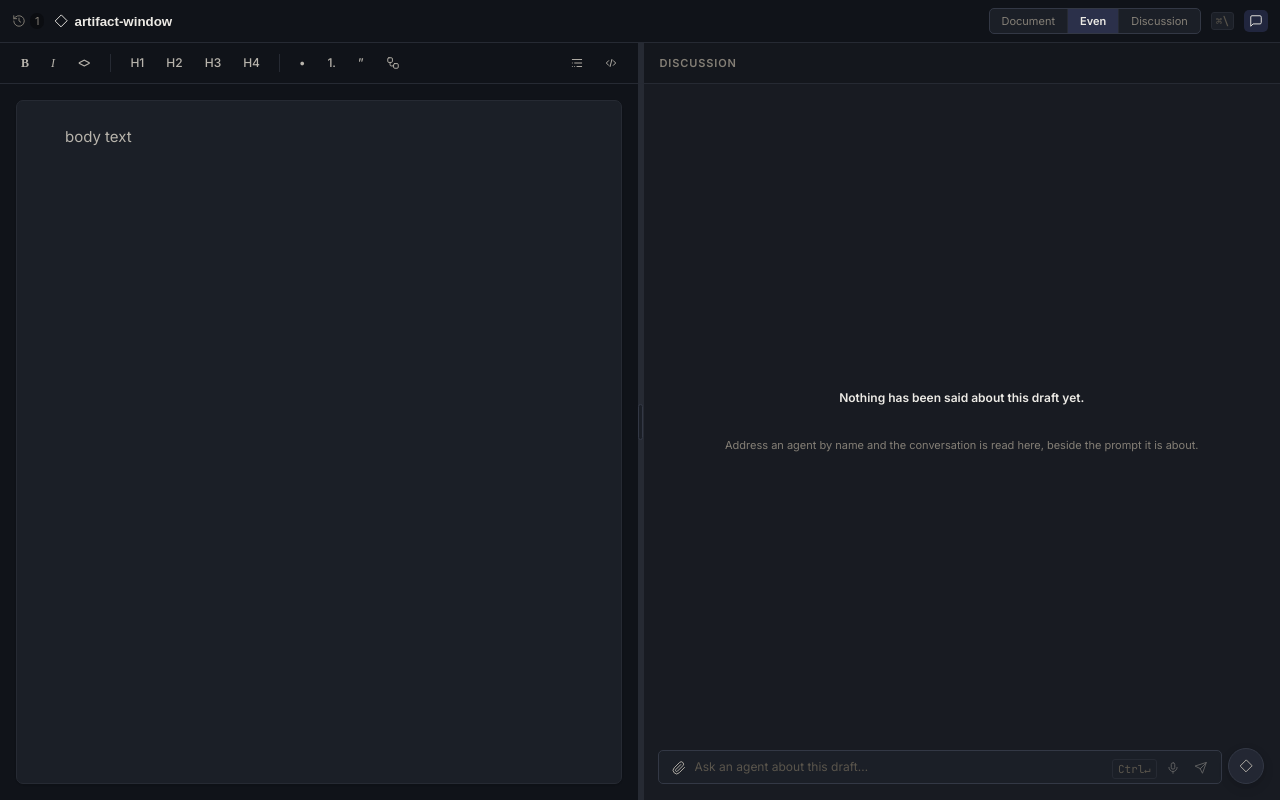
New Artifact workspace — publishing across GitHub hosts › NAW-FR-VBHT: a token of another host refuses the action and states why
Click the button named "Draft actions" at {"x": 1246, "y": 766}, box [1228, 748, 1264, 784]
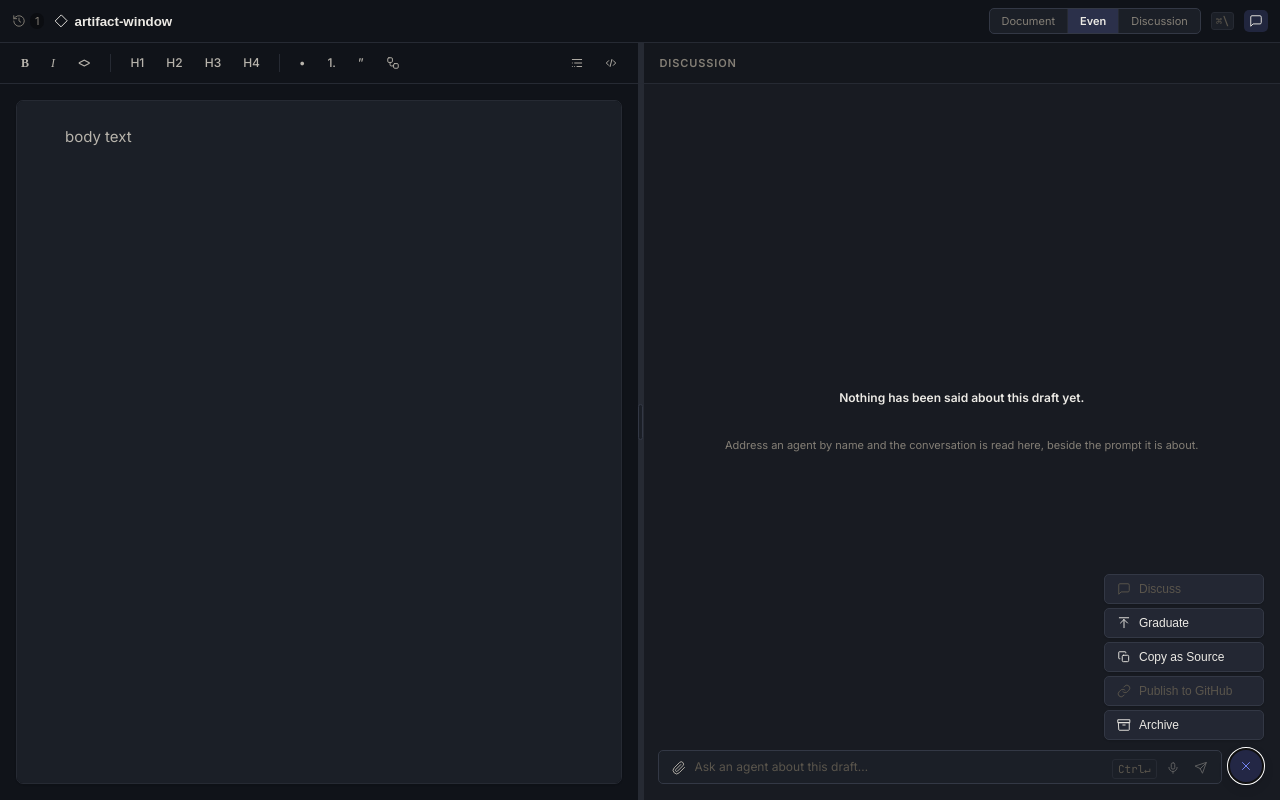
Expected: the menu item "Publish to GitHub" is disabled, [1104, 676, 1264, 706]
